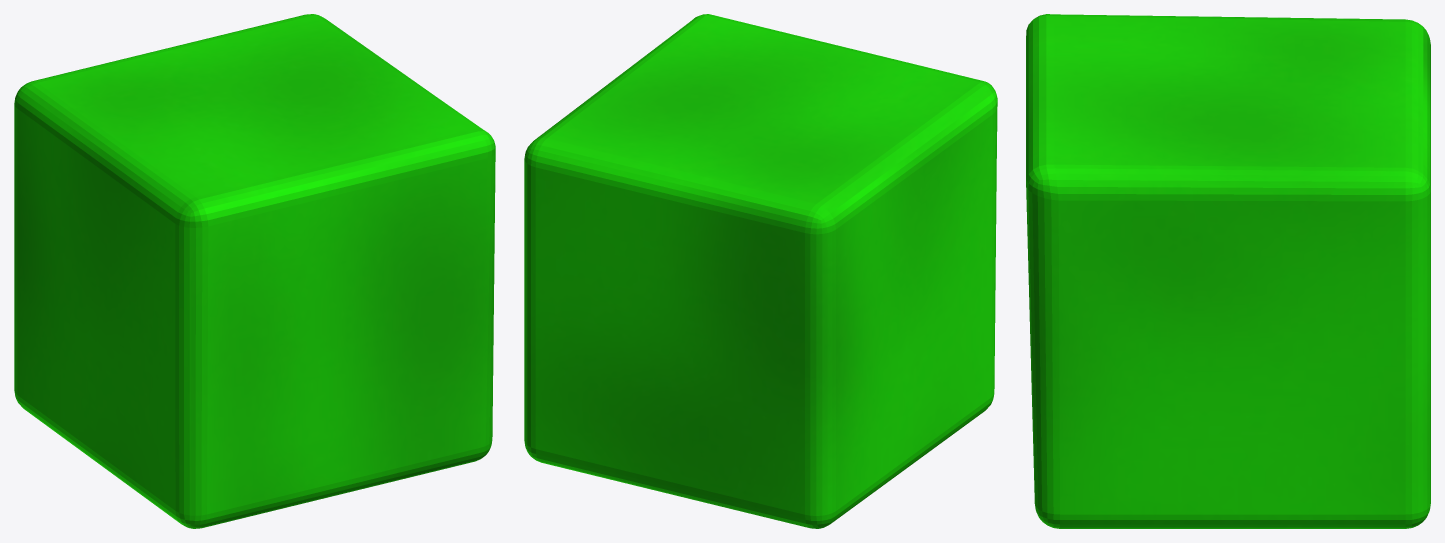
Rendered from tiny_robo.fbx.
3 renders of one model, left to right at view 1: azimuth 30°, elevation 25°; view 2: azimuth 150°, elevation 25°; view 3: azimuth 270°, elevation 25°, orthographic. The views are drawn at different scales.
Parts seen in each view (by area): view 1: Cube.001; view 2: Cube.001; view 3: Cube.001.
Boxes of the visible parts, x1,y1,x2,y2 form: Cube.001: [14, 14, 495, 528]; Cube.001: [524, 14, 997, 528]; Cube.001: [1026, 14, 1430, 528].
Bounding box in the file's own units: 201 × 203 × 204.
